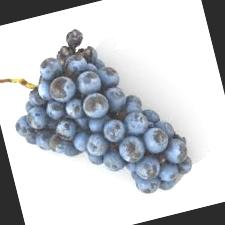Grape Rotten: (0, 7, 196, 224)
